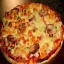pizza: (1, 2, 59, 62)
